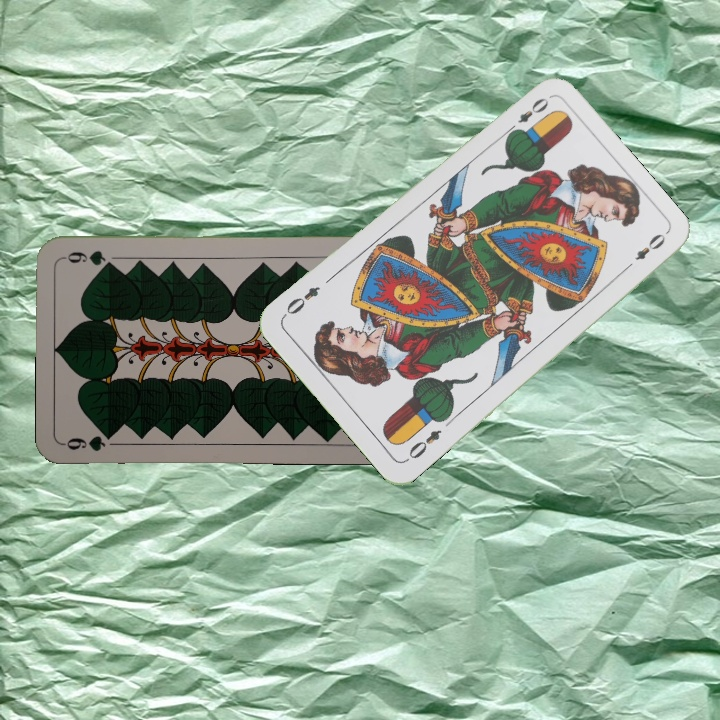EO: (502, 93, 552, 137), (401, 425, 444, 465)
G9: (60, 428, 119, 453)
